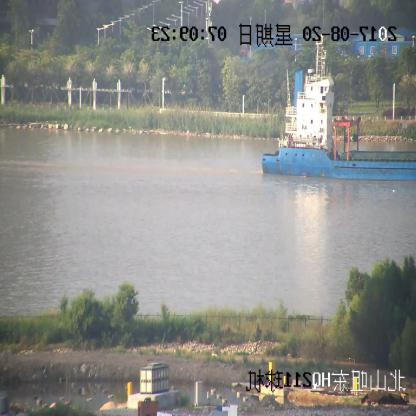Bulk Carrier: (261, 52, 416, 181)
